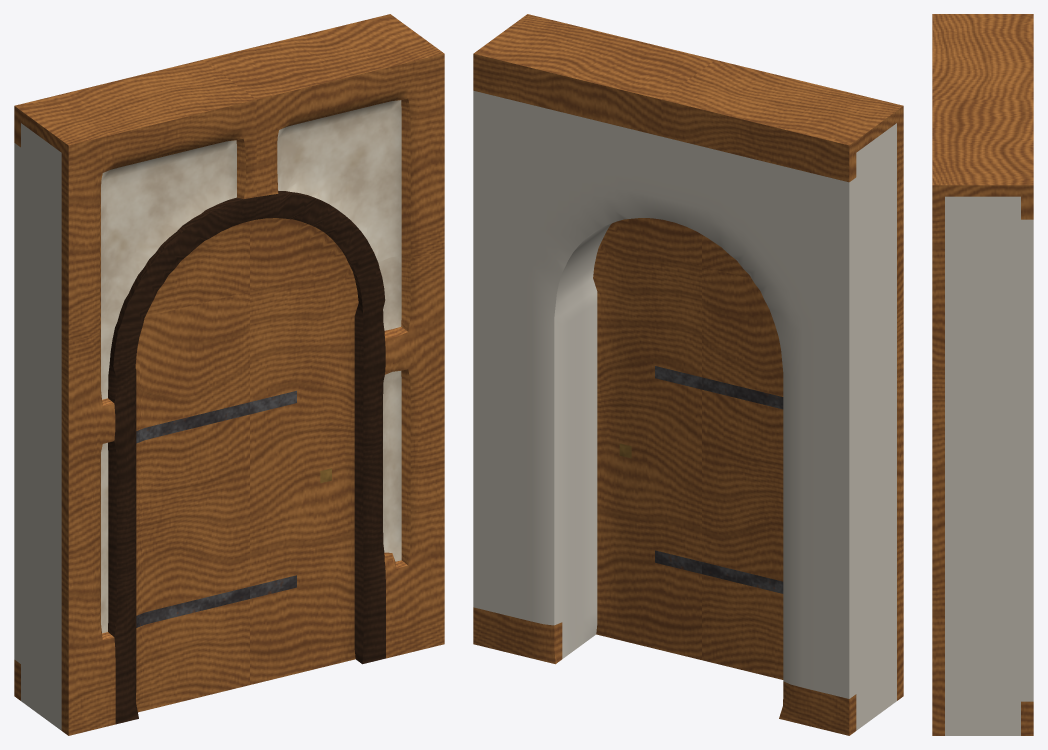
Rendered from wall_out_timber_door.glb.
3 renders of one model, left to right at view 1: azimuth 30°, elevation 25°; view 2: azimuth 150°, elevation 25°; view 3: azimuth 270°, elevation 25°, orthographic. The views are drawn at different scales.
Parts seen in each view (by area): view 1: town_wall_out_timber_door; view 2: town_wall_out_timber_door; view 3: town_wall_out_timber_door.
Part boxes in pixels (<box>): town_wall_out_timber_door: <box>14,14,444,735</box>; town_wall_out_timber_door: <box>473,14,903,735</box>; town_wall_out_timber_door: <box>932,14,1033,735</box>.
Size of the model in its own units: 1 by 1.5 by 0.25.
Materials: 2 (1 with a texture image).
